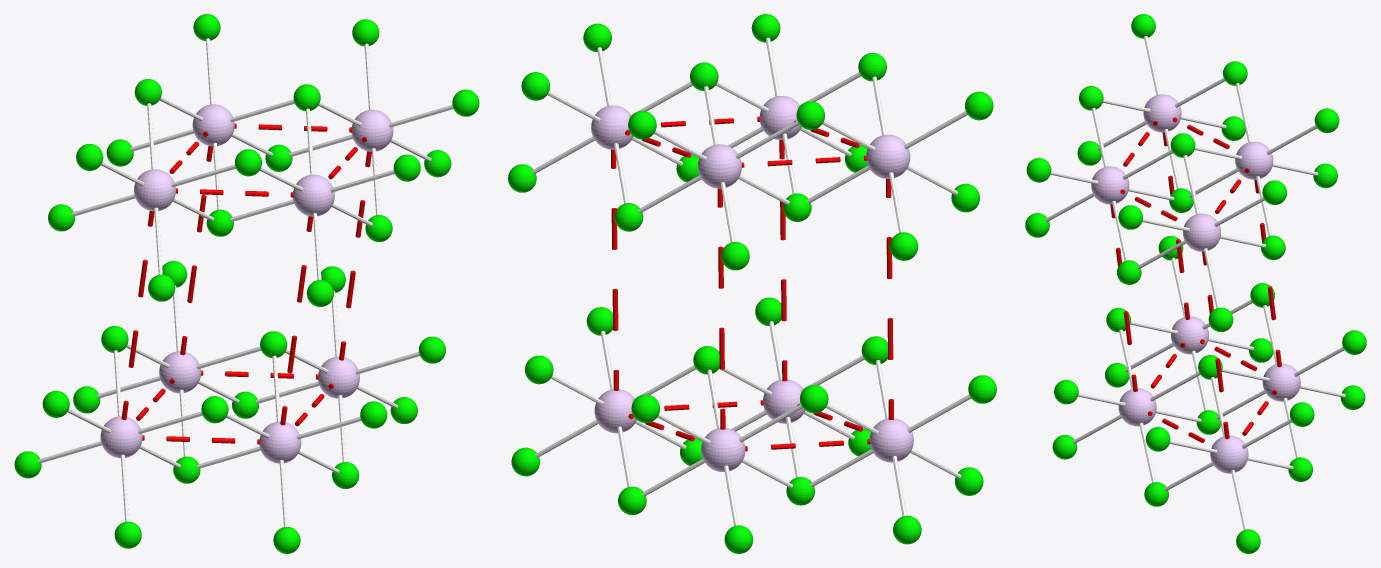
Rendered from MgCl2.glb.
3 views of the same model, side by side, from view 1: azimuth 30°, elevation 25°; view 2: azimuth 150°, elevation 25°; view 3: azimuth 270°, elevation 25° (orthographic). The views are drawn at different scales.
Parts seen in each view (by area): view 1: Atom.10, Atom.12, Atom.6, Atom.8, Atom.11, Atom.9, Atom.5, Atom.7, Atom.48, Atom.31, Atom.29, Atom.36 (+26 smaller); view 2: Atom.9, Atom.10, Atom.5, Atom.6, Atom.11, Atom.7, Atom.12, Atom.8, Atom.39, Atom.47, Atom.25, Atom.30 (+24 smaller); view 3: Atom.11, Atom.7, Atom.12, Atom.9, Atom.10, Atom.5, Atom.8, Atom.6, Atom.51, Atom.38, Atom.36, Atom.32 (+27 smaller).
Part boxes in pixels (x1=…): Atom.10: x1=134, y1=169, x2=175, y2=211; Atom.12: x1=293, y1=174, x2=334, y2=216; Atom.6: x1=100, y1=416, x2=142, y2=458; Atom.8: x1=259, y1=421, x2=301, y2=463; Atom.11: x1=351, y1=109, x2=393, y2=151; Atom.9: x1=192, y1=104, x2=234, y2=146; Atom.5: x1=159, y1=351, x2=201, y2=393; Atom.7: x1=318, y1=356, x2=359, y2=398; Atom.48: x1=452, y1=89, x2=479, y2=116; Atom.31: x1=114, y1=521, x2=141, y2=548; Atom.29: x1=201, y1=396, x2=228, y2=423; Atom.36: x1=360, y1=401, x2=387, y2=428; Atom.9: x1=697, y1=144, x2=741, y2=188; Atom.10: x1=866, y1=134, x2=910, y2=178; Atom.5: x1=701, y1=428, x2=745, y2=471; Atom.6: x1=869, y1=418, x2=913, y2=462; Atom.11: x1=591, y1=105, x2=633, y2=149; Atom.7: x1=594, y1=389, x2=636, y2=433; Atom.12: x1=759, y1=96, x2=801, y2=139; Atom.8: x1=763, y1=379, x2=805, y2=423; Atom.39: x1=796, y1=101, x2=824, y2=129; Atom.47: x1=521, y1=72, x2=549, y2=100; Atom.25: x1=724, y1=525, x2=753, y2=553; Atom.30: x1=893, y1=515, x2=921, y2=544; Atom.11: x1=1183, y1=213, x2=1220, y2=251; Atom.7: x1=1210, y1=435, x2=1248, y2=473; Atom.12: x1=1091, y1=166, x2=1129, y2=204; Atom.9: x1=1235, y1=141, x2=1273, y2=179; Atom.10: x1=1143, y1=94, x2=1181, y2=132; Atom.5: x1=1262, y1=363, x2=1300, y2=401; Atom.8: x1=1118, y1=388, x2=1156, y2=426; Atom.6: x1=1171, y1=316, x2=1208, y2=354; Atom.51: x1=1026, y1=158, x2=1051, y2=182; Atom.38: x1=1314, y1=108, x2=1339, y2=132; Atom.36: x1=1054, y1=379, x2=1078, y2=404; Atom.32: x1=1289, y1=402, x2=1314, y2=426.
Size of the model in its own units: 11.36 by 10.44 by 8.56.
